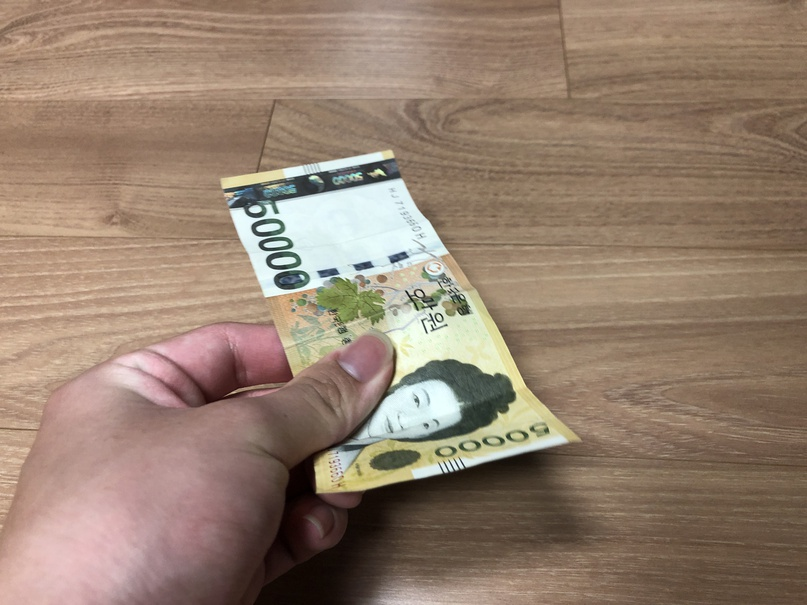50000won: (220, 149, 582, 494)
